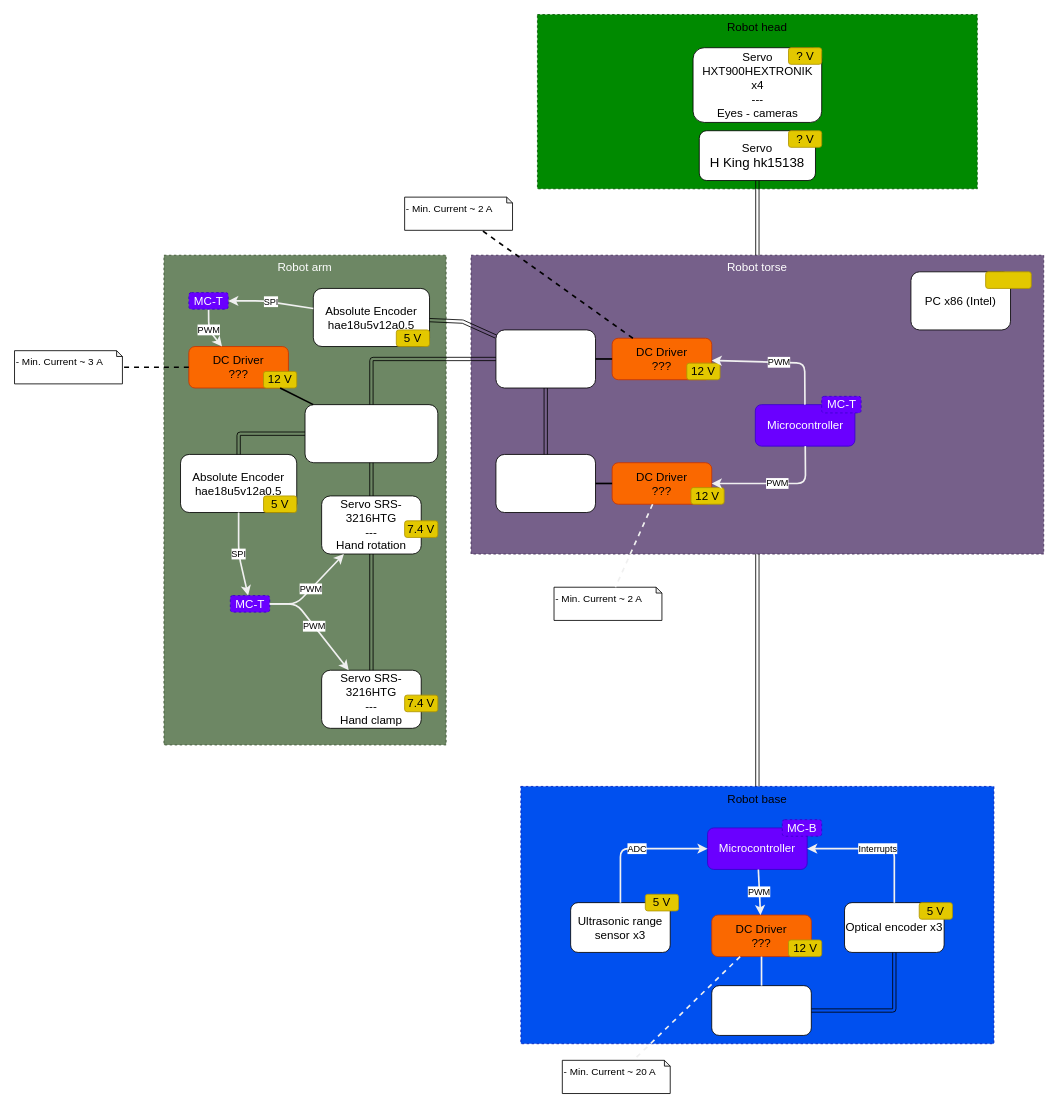
This 1058x1108 diagram has some shape labels left out. Each missing label, with the centre of its shape:
"Base motor x3 Omniwheel" belongs at (x=761, y=1010).
"Linear Motor s150106xd88 --- Arm rise" belongs at (x=545, y=483).
"Linear Motor s150106xd88 --- Arm rotation" belongs at (x=545, y=358).
"Linear Motor SOVIK S100-30-12-15 --- Forearm" belongs at (x=371, y=433).
"~ 220 V" belongs at (x=1008, y=279).
